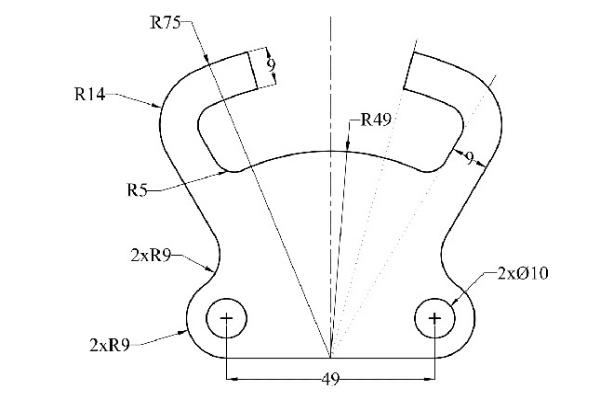dimensions: (79, 332, 137, 363), (493, 260, 553, 285), (128, 238, 174, 270), (144, 7, 185, 38), (69, 82, 108, 109), (354, 108, 393, 129), (261, 52, 284, 77), (125, 179, 150, 200), (320, 368, 344, 388), (465, 147, 480, 167)
